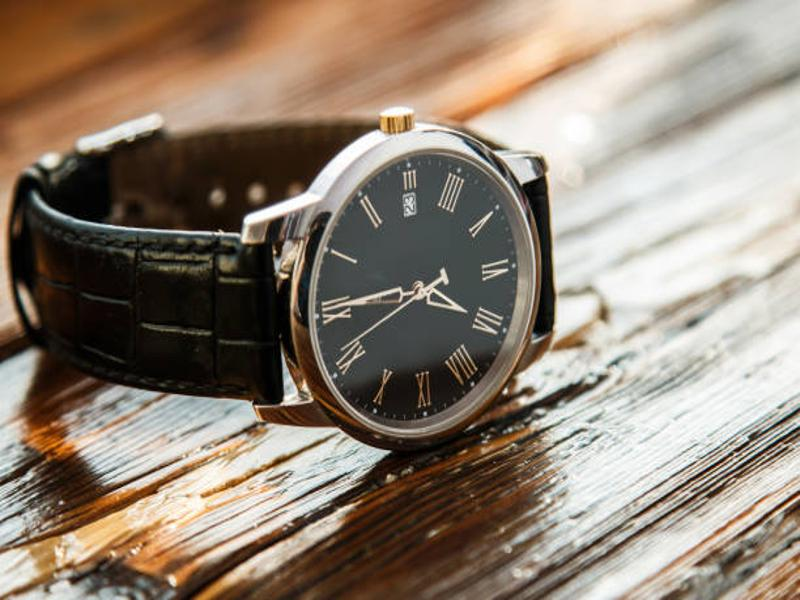watch: (1, 110, 565, 446)
